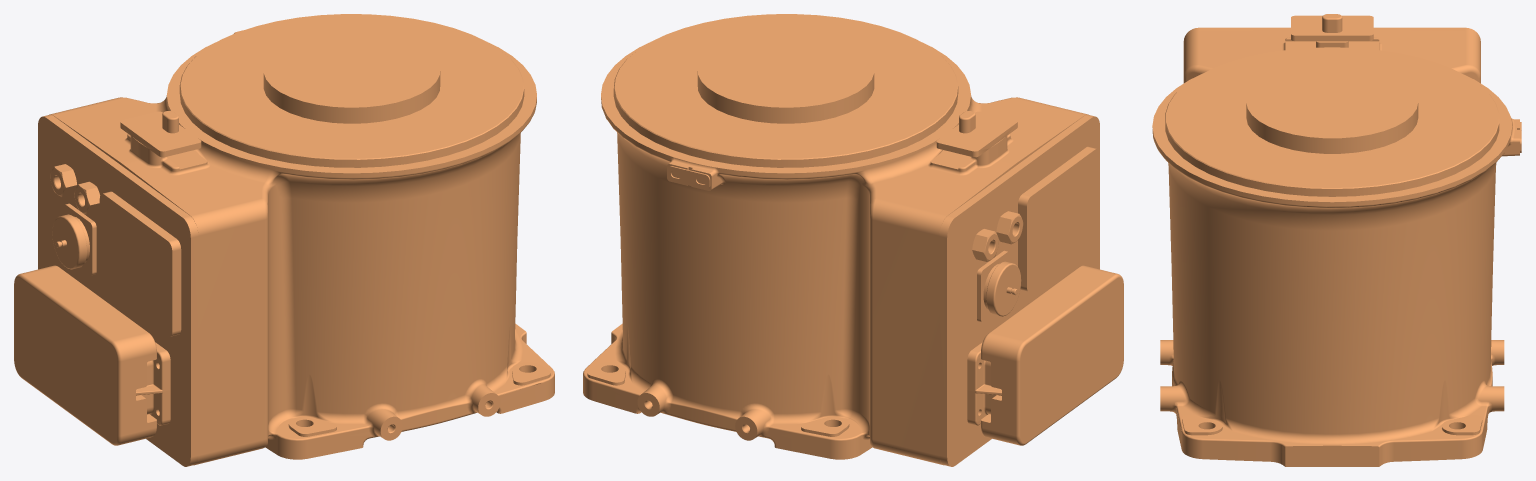
The picture shows the model from 3 angles, left to right: view 1: azimuth 30°, elevation 25°; view 2: azimuth 150°, elevation 25°; view 3: azimuth 270°, elevation 25°; orthographic projection. The views are drawn at different scales.
Visible parts, largest first — view 1: R7-900_BASE; view 2: R7-900_BASE; view 3: R7-900_BASE.
Part boxes in pixels (bbox=[...]): R7-900_BASE: bbox=[14, 14, 554, 466]; R7-900_BASE: bbox=[583, 14, 1123, 466]; R7-900_BASE: bbox=[1152, 14, 1521, 466].
Size of the model in its own units: 0.3201 by 0.236 by 0.207.
